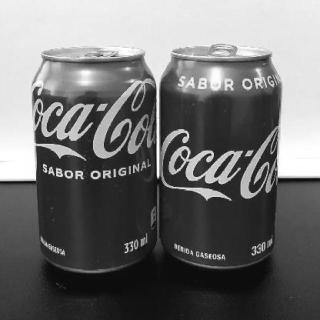alumunium_can: (28, 42, 162, 278), (162, 38, 286, 278)
